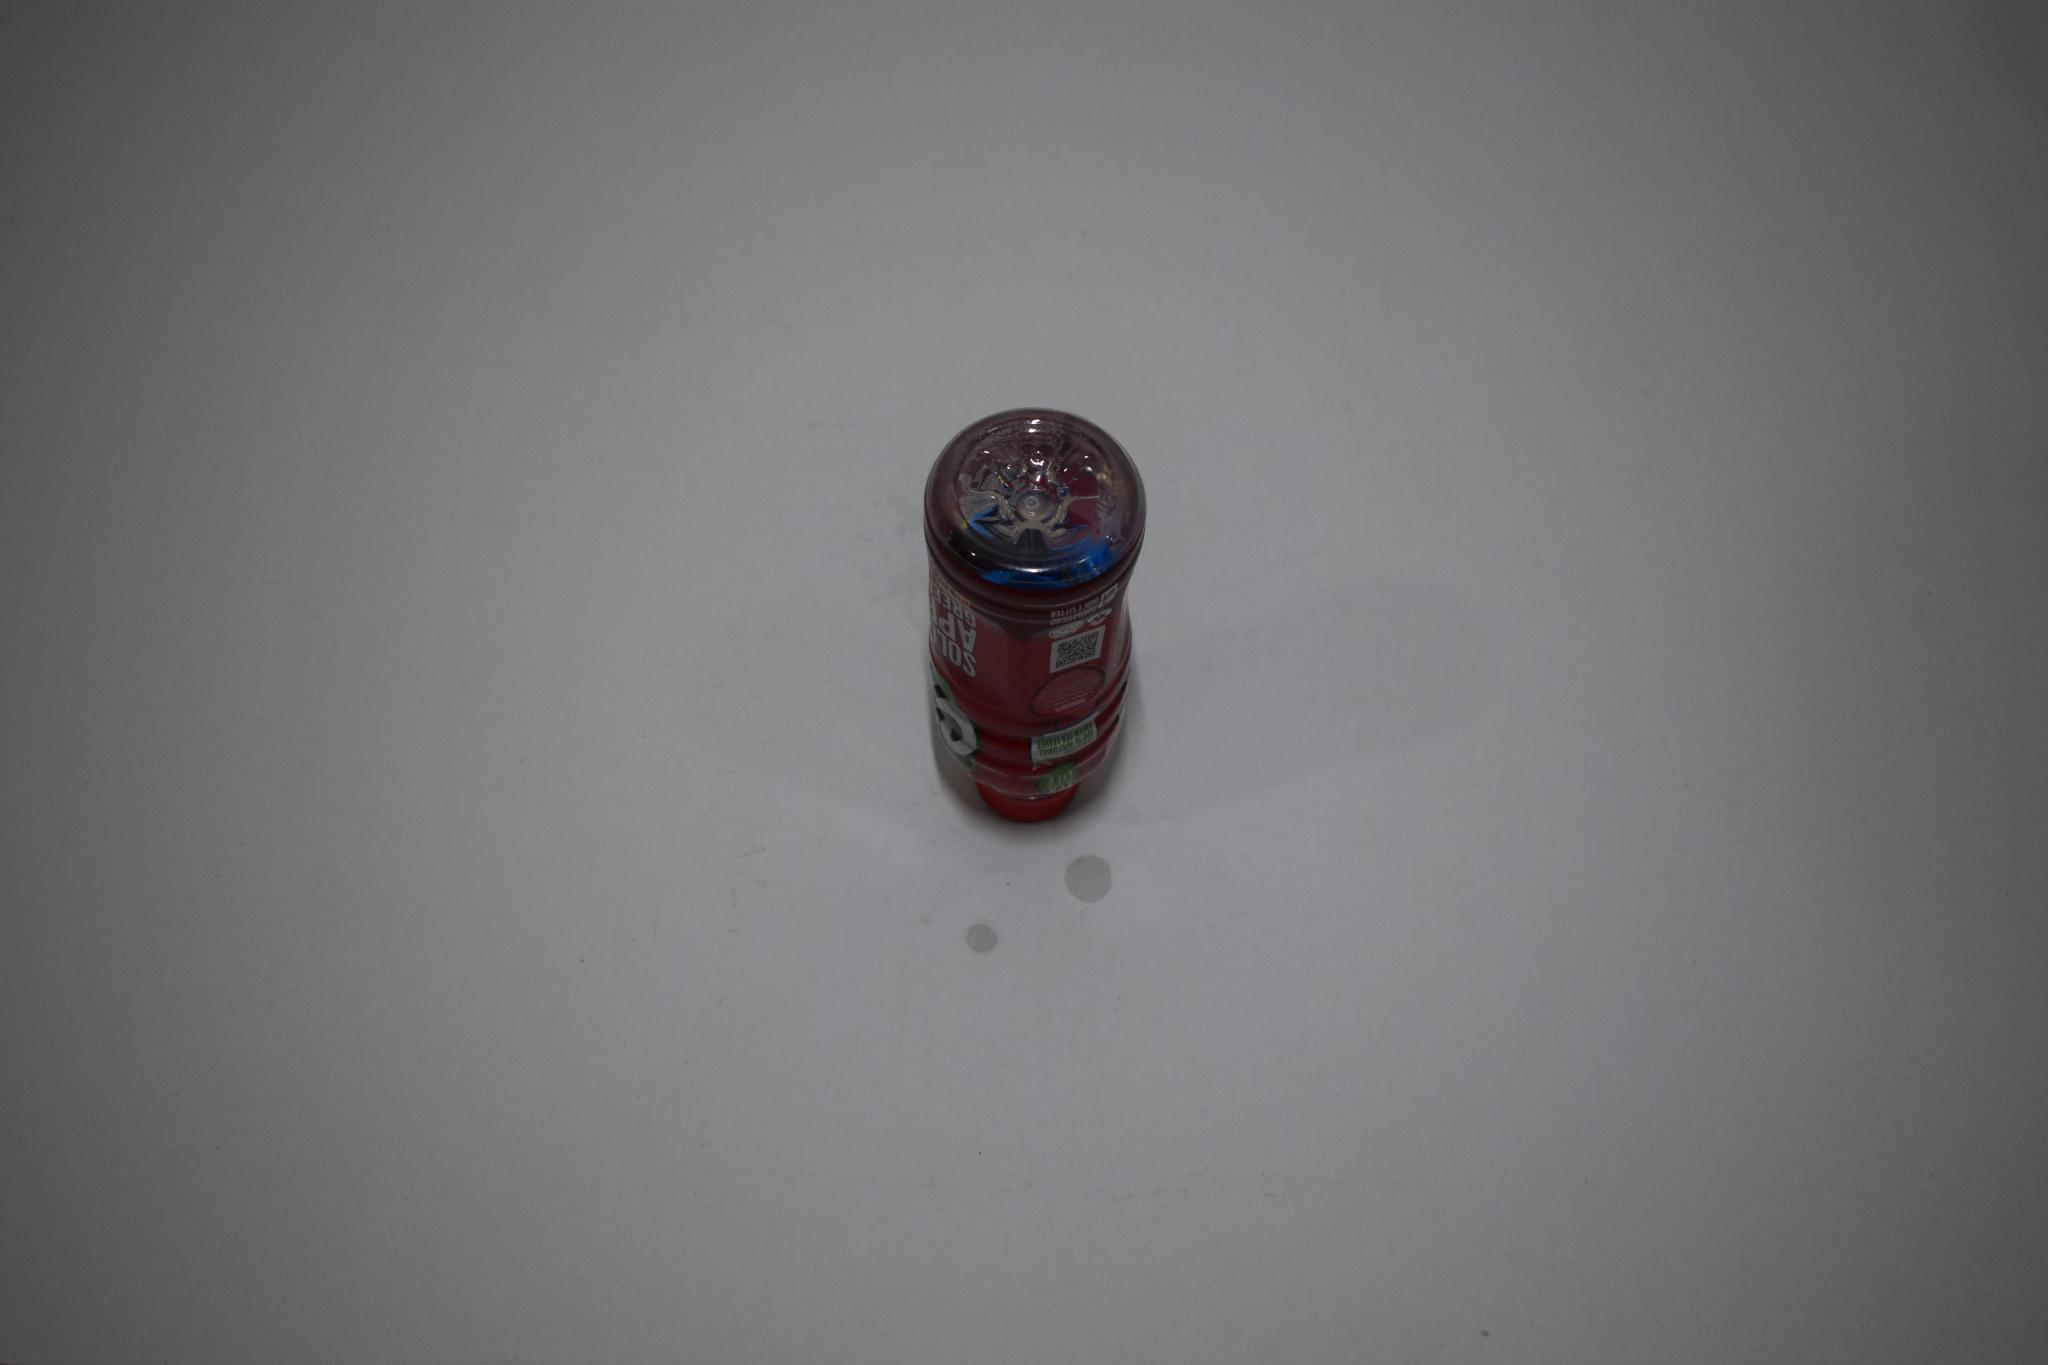bottle: (879, 369, 1166, 855)
